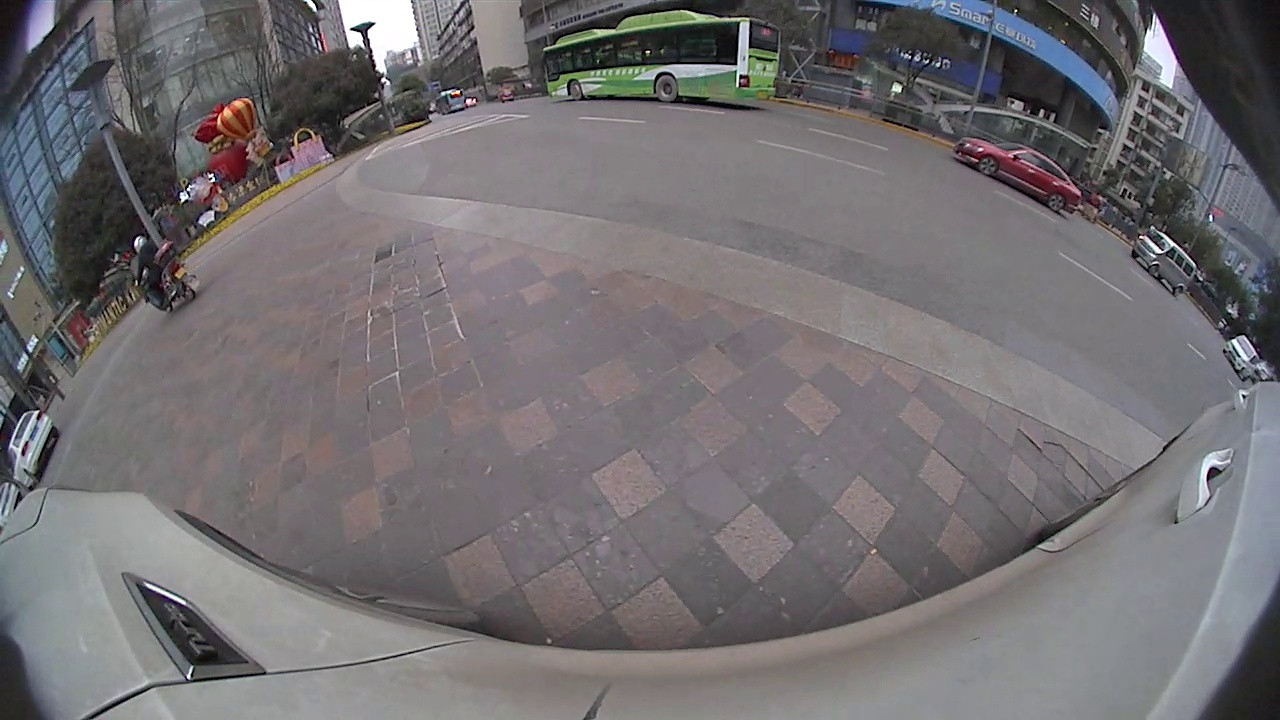bus: (542, 10, 781, 105)
car: (954, 138, 1081, 215), (1129, 231, 1198, 297), (11, 409, 61, 484), (1225, 334, 1256, 379)
front: (977, 155, 998, 177), (567, 80, 586, 103), (1145, 262, 1163, 279)
rear: (653, 73, 680, 104), (1047, 192, 1068, 214), (1171, 282, 1187, 300)
rider: (134, 234, 199, 311)
